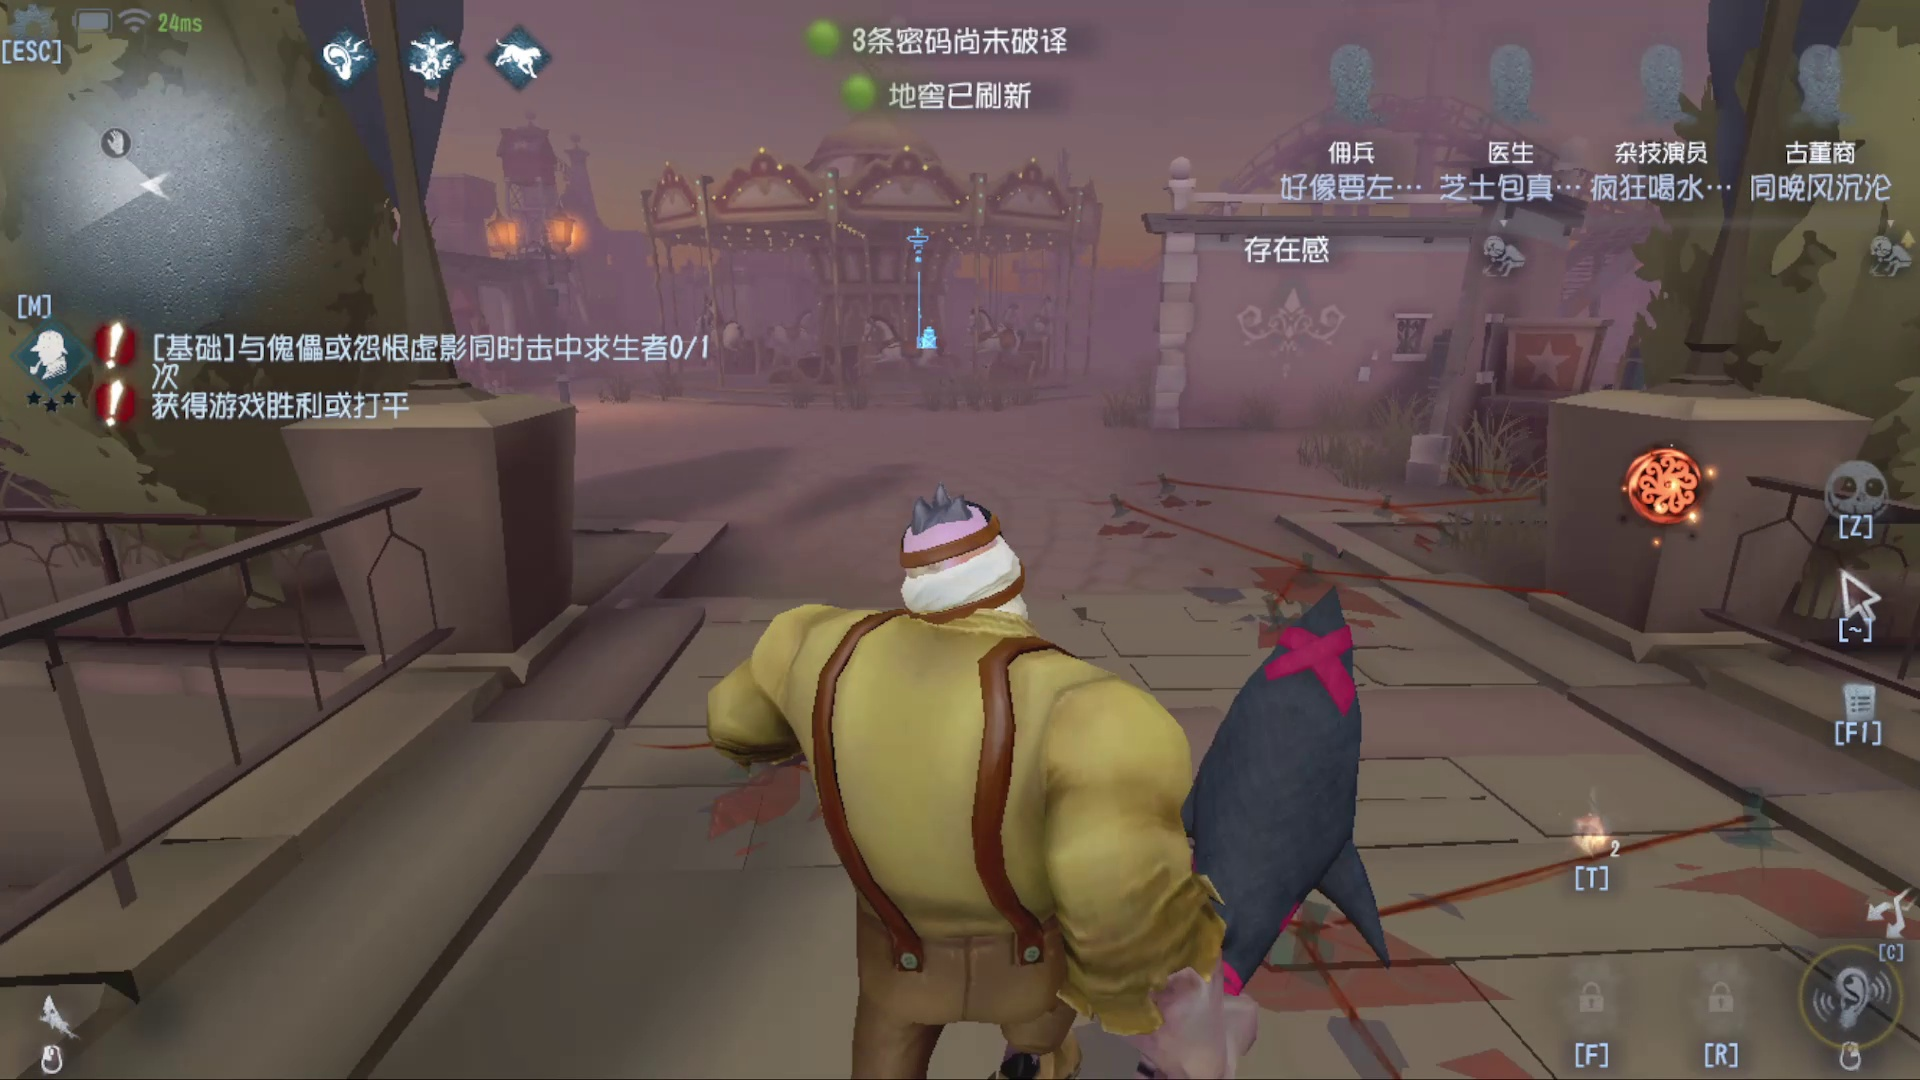密码机: (891, 211, 956, 367)
脚印: (1127, 440, 1477, 618)
